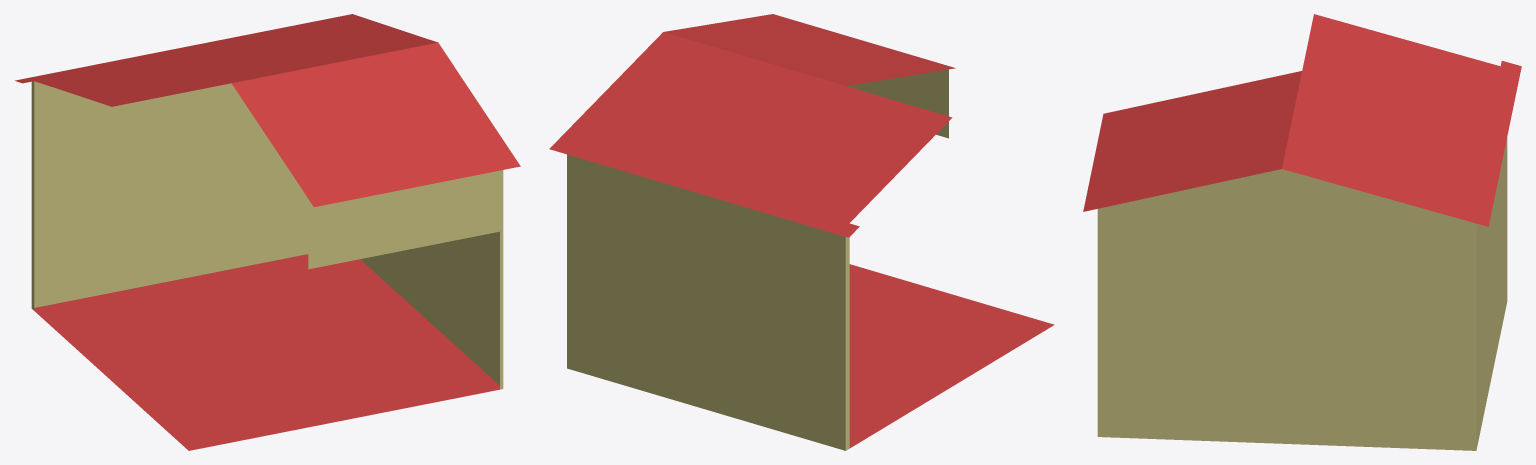
3 views of the same model, side by side, from view 1: azimuth 30°, elevation 25°; view 2: azimuth 150°, elevation 25°; view 3: azimuth 270°, elevation 25° (orthographic). The views are drawn at different scales.
Size of the model in its own units: 14.93 by 16.33 by 11.52.
